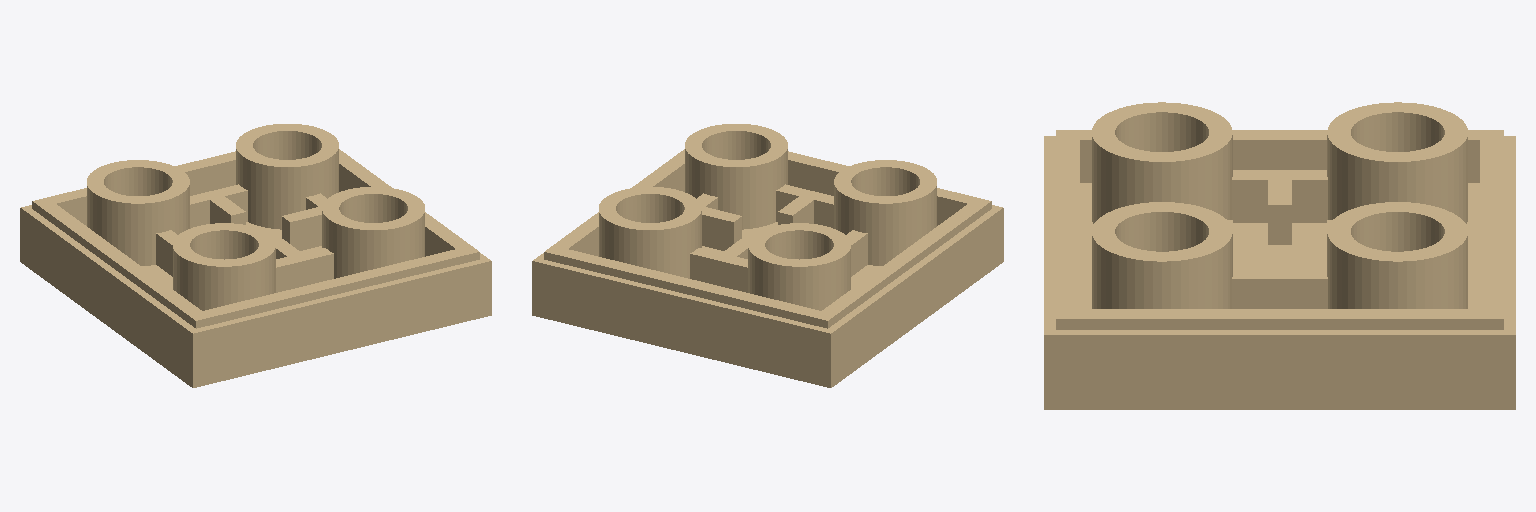
URDF robot description (11203__tan):
<?xml version="1.0"?>
<robot name="11203__tan">
  <link name="11203__tan">
    <inertial>
      <origin xyz="-0.000000 0.000000 -0.000951" rpy="0 0 0"/>
      <mass value="0.001187"/>
      <inertia ixx="2.575042167e-08" ixy="-1.979094239e-25" ixz="1.630628085e-25" iyy="2.575042167e-08" iyz="4.523643975e-25" izz="4.726558047e-08"/>
    </inertial>
    <visual>
      <geometry>
        <mesh filename="../meshes/visual/11203.obj" scale="1 1 1"/>
      </geometry>
      <material name="11203__tan_color">
        <color rgba="0.860 0.770 0.610 1.000"/>
      </material>
    </visual>
    <collision>
      <geometry>
        <mesh filename="../meshes/collision/11203_hull.obj" scale="1 1 1"/>
      </geometry>
    </collision>
  </link>
</robot>

--- Render facts (derived) ---
3 views of the same robot in one strip: view 1: azimuth 30°, elevation 25°; view 2: azimuth 150°, elevation 25°; view 3: azimuth 270°, elevation 25° (orthographic).
Model 11203__tan with 1 links and 0 joints (none), rooted at 11203__tan, posed all joints at 0.
Links seen in each view (by area): view 1: 11203__tan; view 2: 11203__tan; view 3: 11203__tan.
Link boxes in pixels (left/top/right/bottom): 11203__tan: left=20, top=124, right=491, bottom=387; 11203__tan: left=532, top=124, right=1003, bottom=387; 11203__tan: left=1044, top=102, right=1515, bottom=409.
Size in the robot's own frame: 0.016 by 0.016 by 0.0048 metres.
1 mesh visuals loaded from 1 distinct referenced files (1 OBJ).
